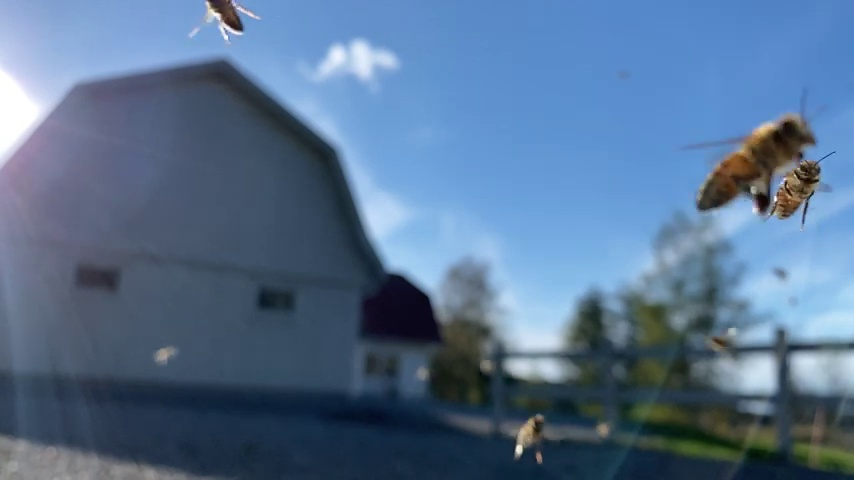insect: (674, 102, 837, 225), (187, 1, 260, 45), (508, 412, 545, 468)
